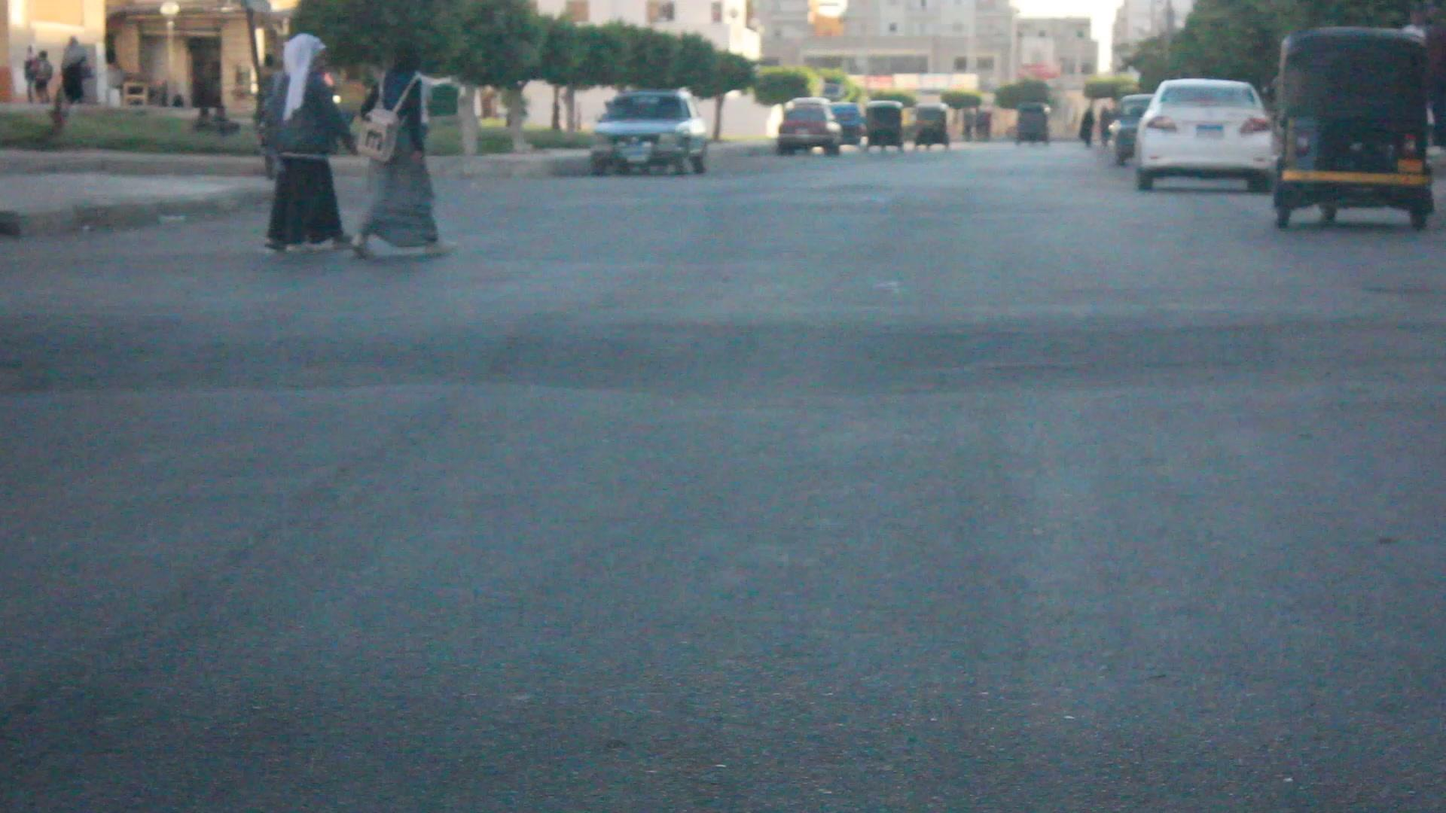Bump: (0, 284, 1446, 395)
